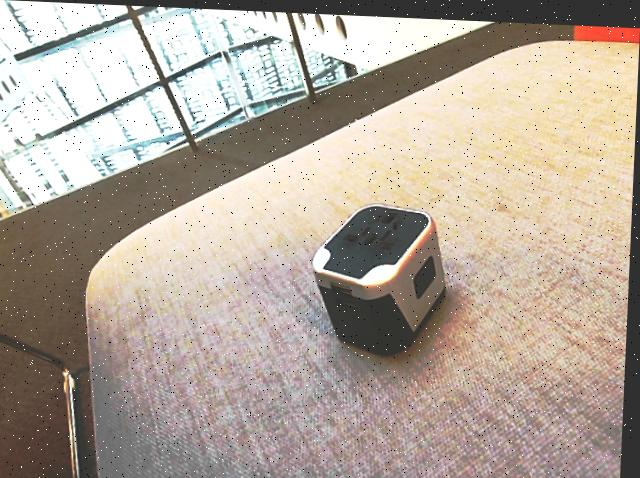adapter: (311, 197, 451, 354)
